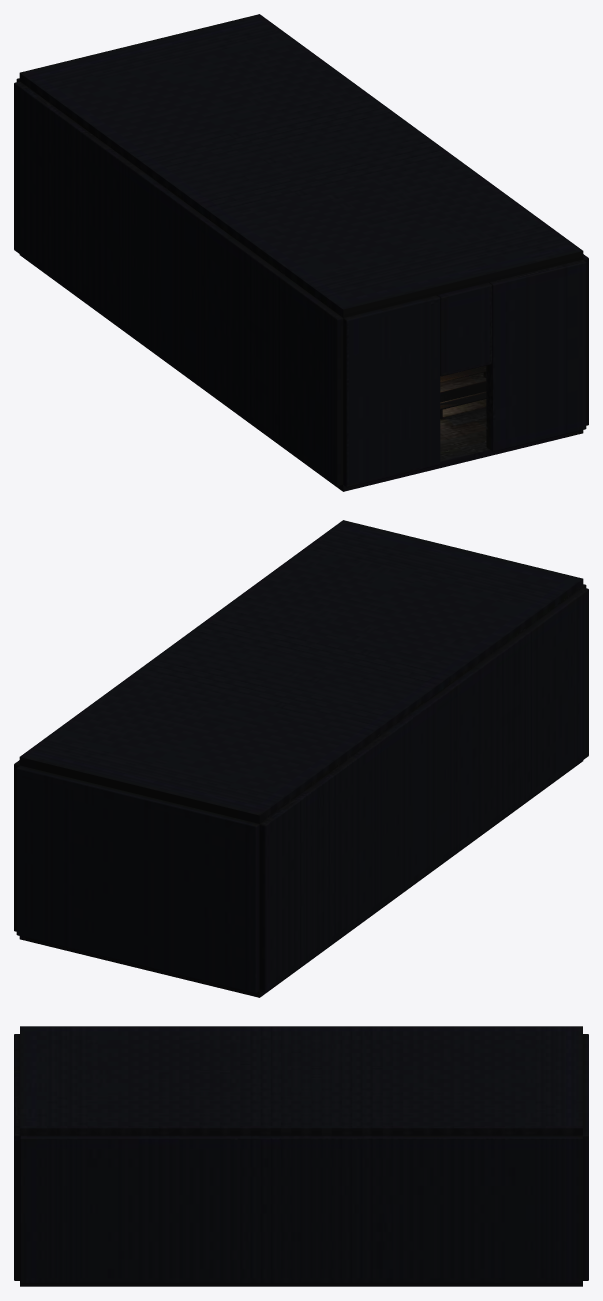
File: sacratorium.glb
3 renders of one model, top to bottom at view 1: azimuth 30°, elevation 25°; view 2: azimuth 150°, elevation 25°; view 3: azimuth 270°, elevation 25°, orthographic. The views are drawn at different scales.
Parts seen in each view (by area): view 1: Shell, Furniture; view 2: Shell; view 3: Shell.
Boxes of the visible parts, box(x1,y1,x2,y2) form: Shell: box(14, 14, 588, 491); Furniture: box(440, 365, 486, 419); Shell: box(14, 520, 588, 997); Shell: box(14, 1026, 588, 1286).
Bounding box in the file's own units: 12.6 × 8.7 × 28.6.
4 materials, 2 textured.
